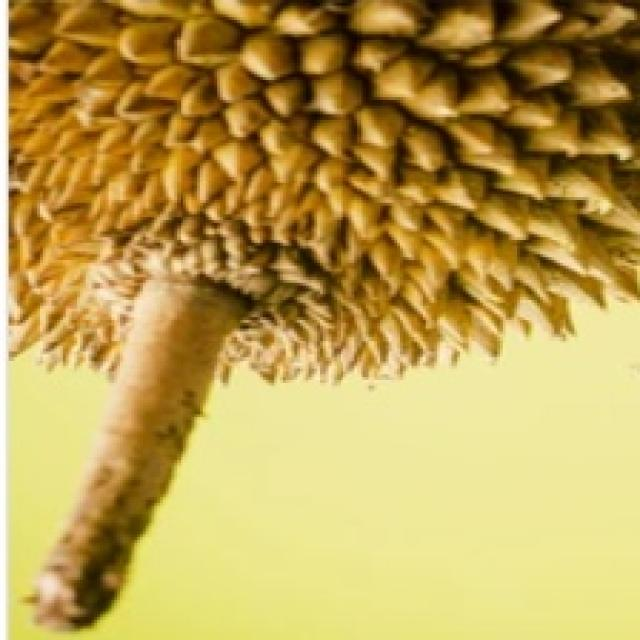d24: (12, 0, 620, 569)
